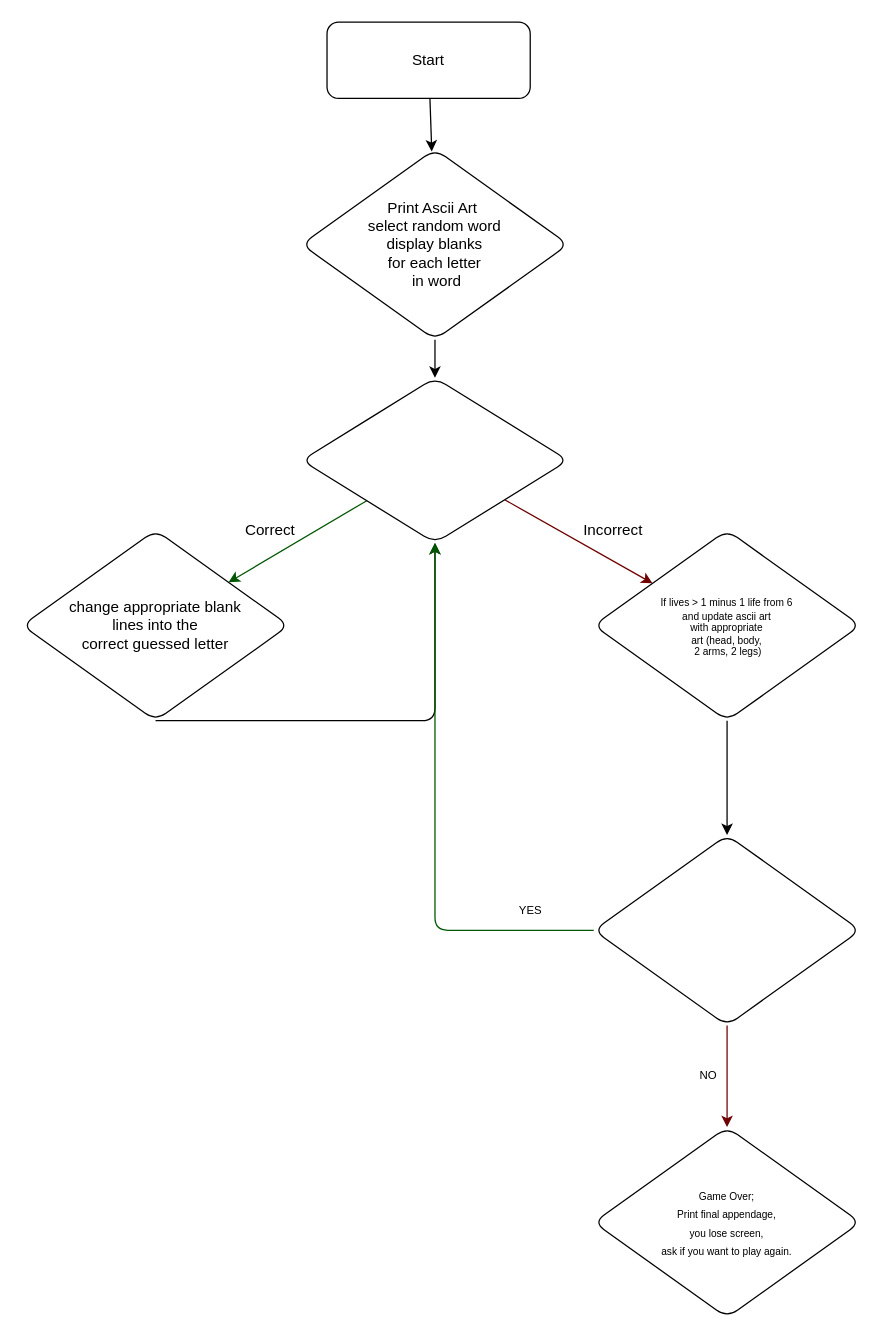
This 883x1340 diagram has some shape labels left out. Here are the shapes that lost their labels. From the top down, the centre of each, then its label:
[434,460]: Guess a letter
[726,930]: Lives (guesses) left?
